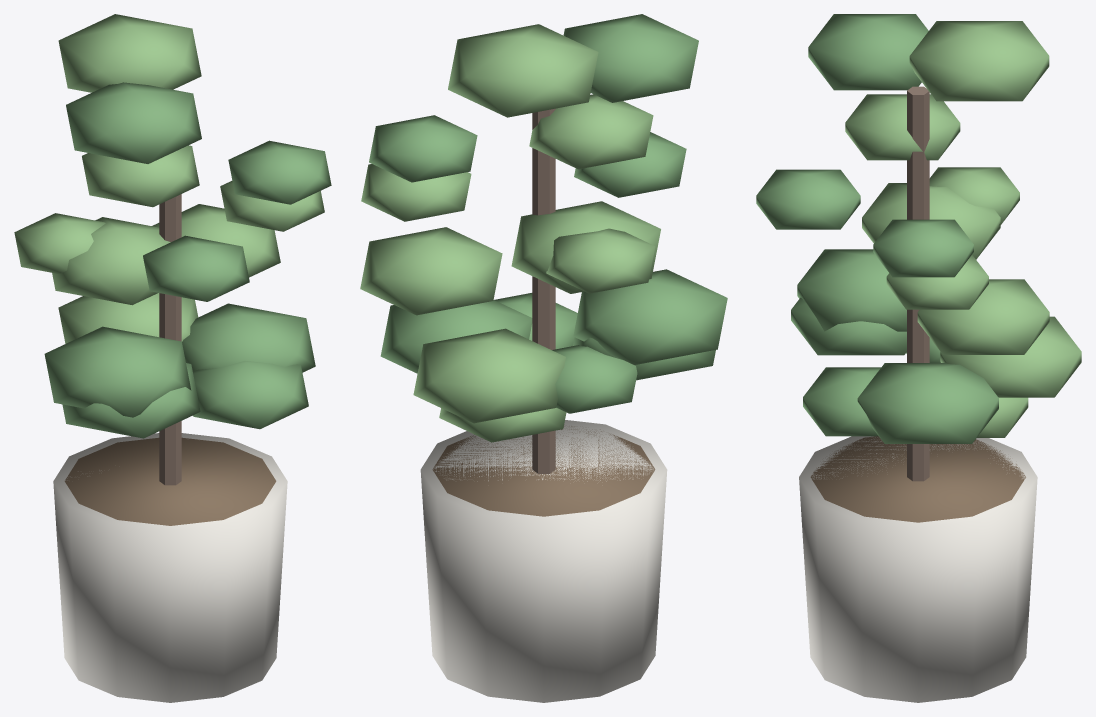
The model's file is tall-plant.glb.
3 renders of one model, left to right at view 1: azimuth 30°, elevation 25°; view 2: azimuth 150°, elevation 25°; view 3: azimuth 270°, elevation 25°, orthographic. The views are drawn at different scales.
Visible parts, largest first — view 1: tall-plant; view 2: tall-plant; view 3: tall-plant.
Part boxes in pixels (box(x1,y1,x2,y2)): tall-plant: box(14, 14, 331, 702); tall-plant: box(360, 14, 727, 702); tall-plant: box(756, 14, 1081, 702).
Size of the model in its own units: 1.23 by 2.43 by 1.15.
